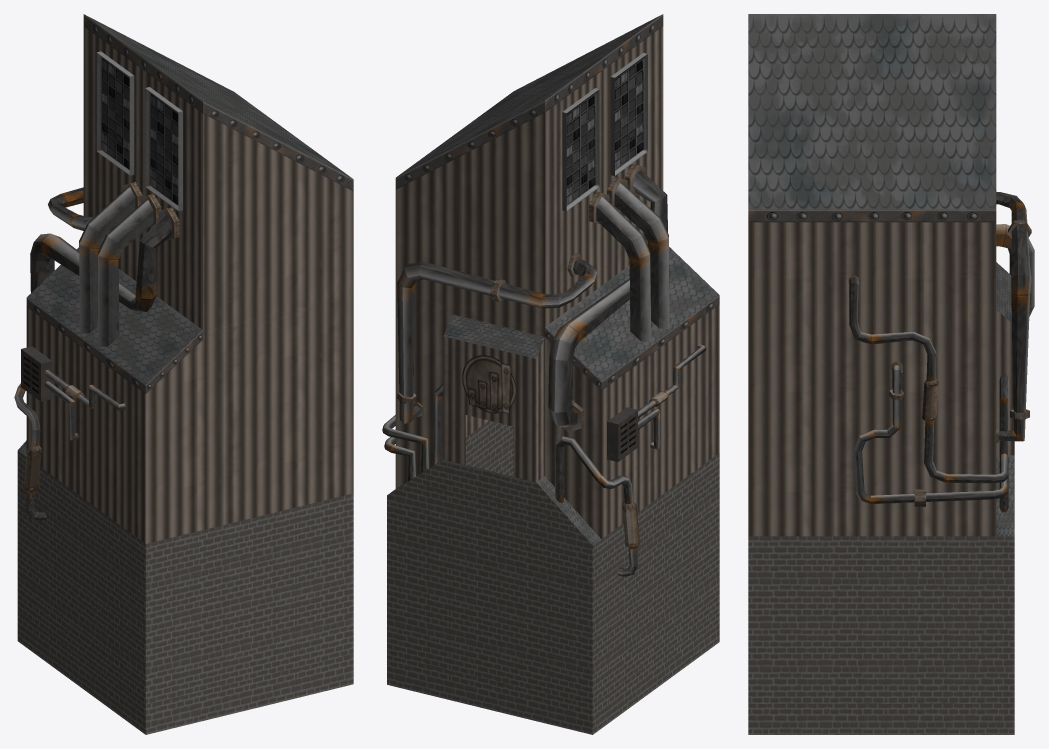
File: factory_entrance_building.fbx
3 renders of one model, left to right at view 1: azimuth 30°, elevation 25°; view 2: azimuth 150°, elevation 25°; view 3: azimuth 270°, elevation 25°, orthographic. The views are drawn at different scales.
Visible parts, largest first — view 1: building, Pipes; view 2: building, Pipes; view 3: building, Pipes.
Part boxes in pixels (<box>): building: <box>17,14,353,734</box>; Pipes: <box>14,182,179,520</box>; building: <box>387,14,719,734</box>; Pipes: <box>382,164,706,576</box>; building: <box>748,14,1014,734</box>; Pipes: <box>848,191,1034,512</box>.
Bounding box in the file's own units: 2308 × 5616 × 2261.
